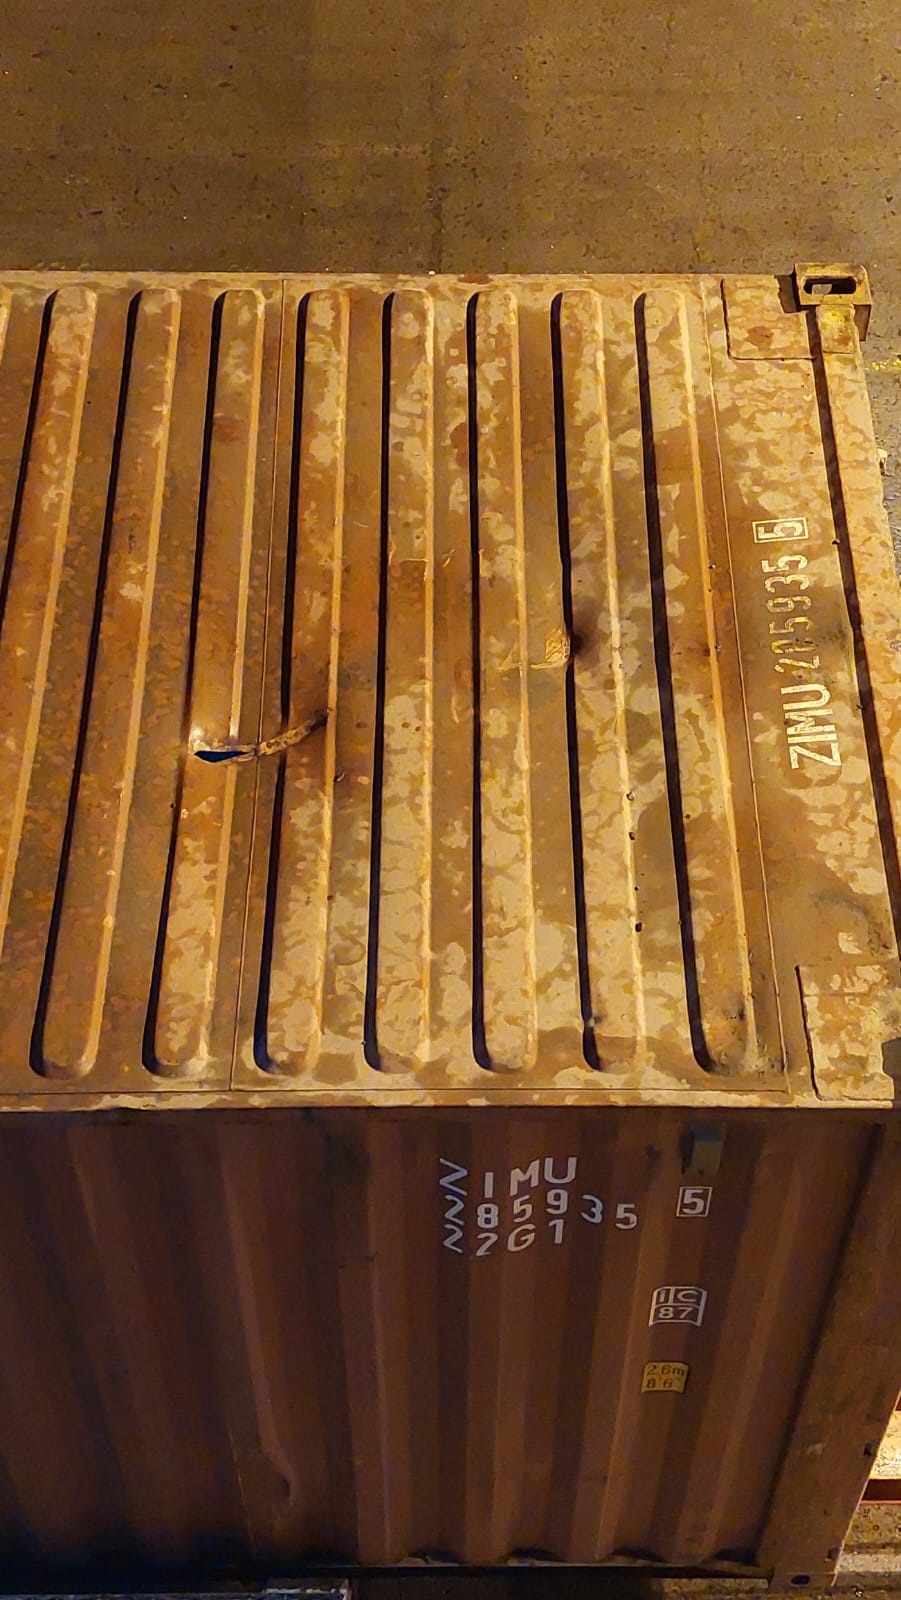cut: (145, 703, 361, 784)
dented: (501, 586, 639, 730)
